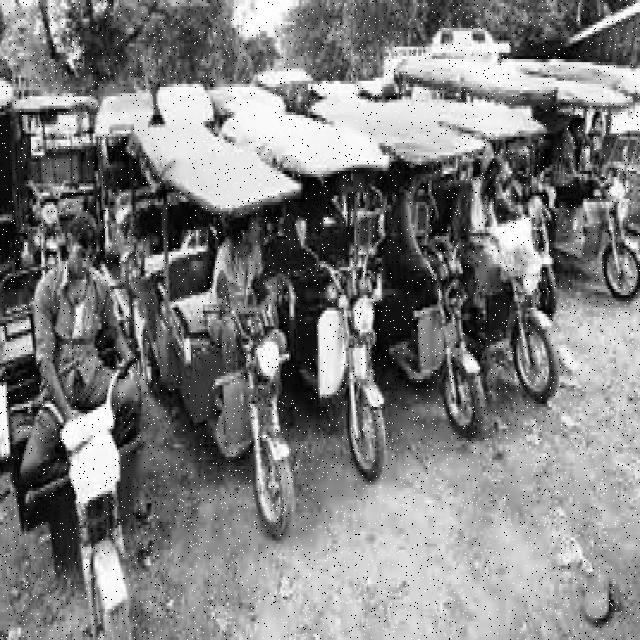Toto: (140, 127, 298, 542), (298, 127, 388, 493), (393, 120, 483, 463)
